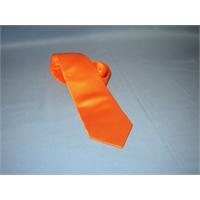tie: (50, 52, 134, 149)
